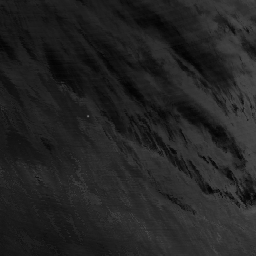Target: (85, 114, 90, 118)
